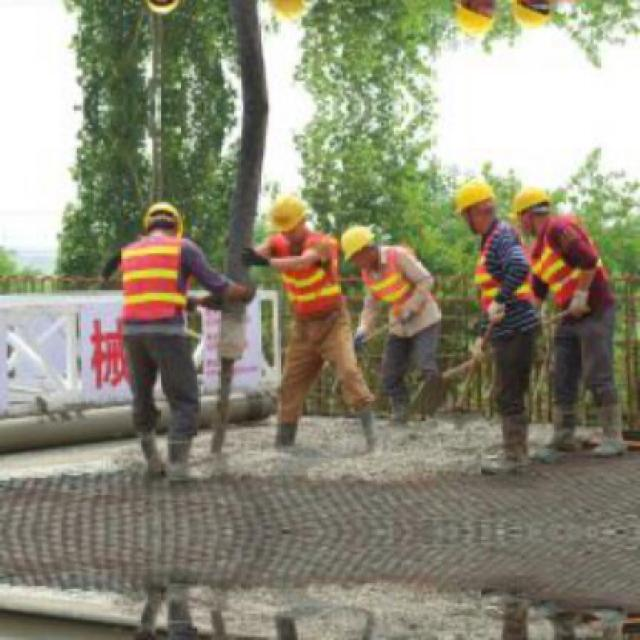helmet: (451, 172, 497, 232), (263, 190, 312, 237), (508, 183, 550, 234), (336, 225, 378, 276), (451, 0, 498, 42), (142, 198, 184, 240), (508, 0, 552, 31), (263, 0, 314, 25), (140, 0, 183, 17)
